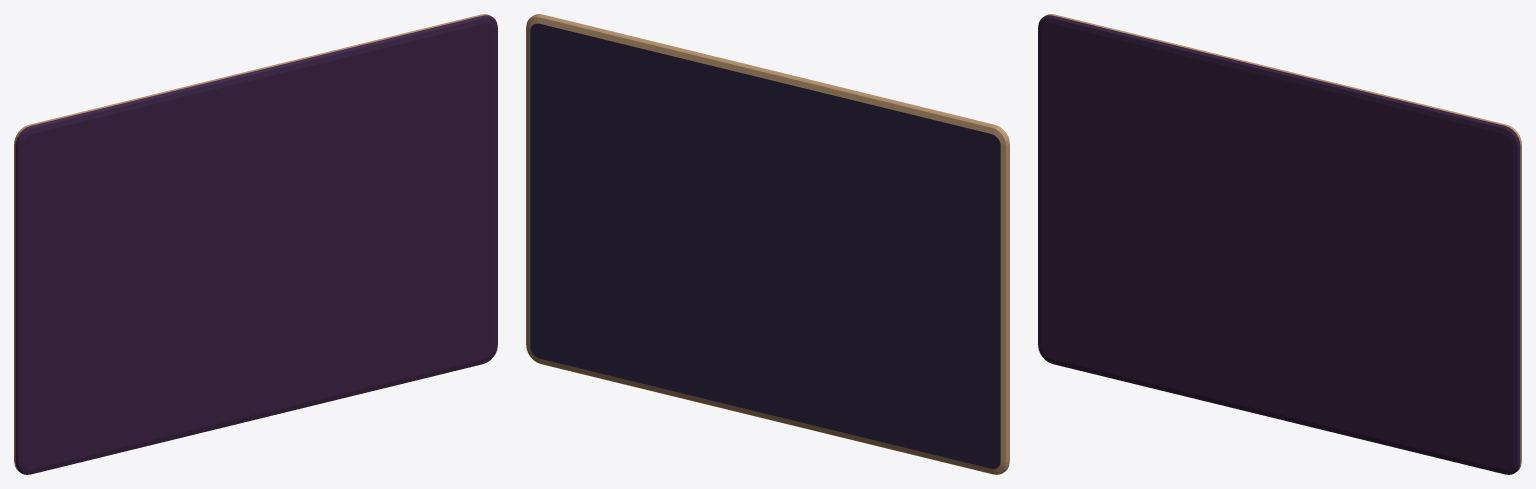
Rendered from scratch_ticket.glb.
3 renders of one model, left to right at view 1: azimuth 30°, elevation 25°; view 2: azimuth 150°, elevation 25°; view 3: azimuth 330°, elevation 25°, orthographic.
Visible parts, largest first — view 1: Die cut laminated ticket; view 2: Die cut laminated ticket; view 3: Die cut laminated ticket.
Part boxes in pixels (bbox=[...]): Die cut laminated ticket: bbox=[14, 14, 497, 474]; Die cut laminated ticket: bbox=[526, 14, 1009, 474]; Die cut laminated ticket: bbox=[1038, 14, 1521, 474].
Size of the model in its own units: 3.5 by 2.42 by 0.064.
